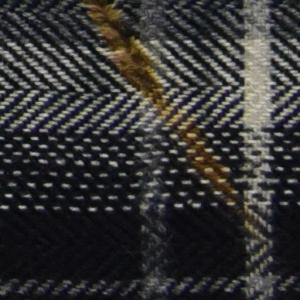Oil Stain: (76, 1, 275, 251)
